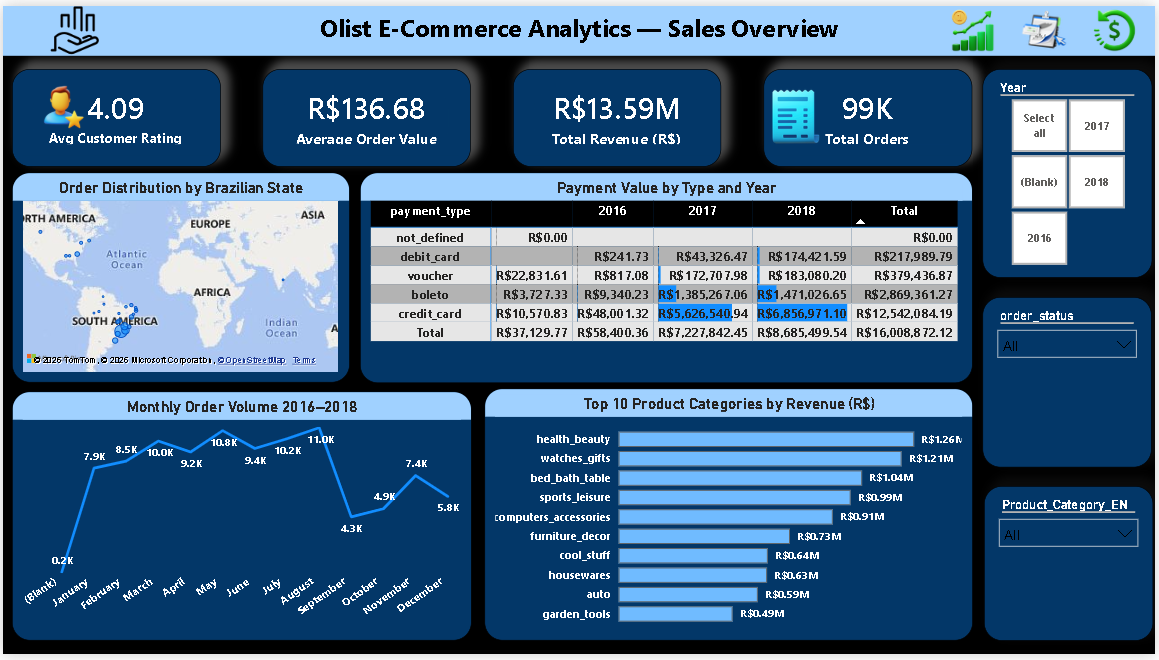

Layout of this report page (visuals, bound fields, positions):
{"tool":"powerbi","page":{"name":"Sales Overview ","canvas":[1280,720],"ordinal":0},"visuals":[{"type":"cardVisual","fields":{"Data":["Avg(FactReviews.review_score)"]},"box":[10,70,231.7,108.3],"z":0},{"type":"cardVisual","fields":{"Data":["Measures_table.Total Orders"]},"box":[845,70,231.7,108.3],"z":1000},{"type":"cardVisual","title":"Total Revenue (R$)","fields":{"Data":["Sum(FactOrderItems.price)"]},"box":[566.9,70,231,108.3],"z":2000},{"type":"cardVisual","fields":{"Data":["Measures_table.Average Order Value"]},"box":[288.8,70,231,108.3],"z":3000},{"type":"clusteredBarChart","title":"Top 10 Product Categories by Revenue (R$)","fields":{"Category":["DimProducts.Product_Category_EN"],"Y":["Sum(FactOrderItems.price)"]},"box":[534.4,424.7,542.4,279.9],"z":4000},{"type":"lineChart","title":"Monthly Order Volume 2016–2018","fields":{"Y":["CountNonNull(DimOrders.order_id)"],"Category":["DimOrders.order_approved_at.Variation.Date Hierarchy.Year","DimOrders.order_approved_at.Variation.Date Hierarchy.Quarter","DimOrders.order_approved_at.Variation.Date Hierarchy.Month","DimOrders.order_approved_at.Variation.Date Hierarchy.Day"]},"box":[9.5,427.9,510.6,276.8],"z":5000},{"type":"map","title":"Order Distribution by Brazilian State","fields":{"Category":["DimCustomers.customer_state"],"Size":["CountNonNull(DimOrders.order_id)"]},"box":[10,185,375,233.3],"z":6000},{"type":"pivotTable","title":"Payment Value by Type and Year","fields":{"Rows":["FactPayments.payment_type"],"Columns":["DimOrders.order_approved_at.Variation.Date Hierarchy.Year"],"Values":["Sum(FactPayments.payment_value)"]},"box":[396.1,184.5,680.8,233.8],"z":7000},{"type":"slicer","fields":{"Values":["DimOrders.order_approved_at.Variation.Date Hierarchy.Year"]},"box":[1088.3,70,188.3,231.7],"z":8000},{"type":"slicer","fields":{"Values":["DimProducts.Product_Category_EN"]},"box":[1089.6,532.9,187.7,171.8],"z":9000},{"type":"slicer","fields":{"Values":["DimOrders.order_status"]},"box":[1088,322.9,187.7,189.3],"z":10000},{"type":"textbox","box":[0,0,1280,55],"z":11000},{"type":"image","box":[1046.6,0,62,54.1],"z":12000},{"type":"image","box":[1121.4,0,70,54.1],"z":13000},{"type":"image","box":[1202.5,0,63.6,54.1],"z":14000},{"type":"image","box":[0,0,159.1,54.1],"z":15000},{"type":"image","box":[25,85,85,51.7],"z":16000},{"type":"image","box":[810,85,140,75],"z":17000}]}

Visuals, with their boxes in screenshot pixels (x1, y1, x2, y2), scaled from the page's 1280x720 canvas onto the 1159x660 screenshot:
cardVisual - Avg(FactReviews.review_score): l=9, t=64, r=219, b=163
cardVisual - Measures_table.Total Orders: l=765, t=64, r=975, b=163
"Total Revenue (R$)" cardVisual: l=513, t=64, r=722, b=163
cardVisual - Measures_table.Average Order Value: l=261, t=64, r=471, b=163
"Top 10 Product Categories by Revenue (R$)" clusteredBarChart: l=484, t=389, r=975, b=646
"Monthly Order Volume 2016–2018" lineChart: l=9, t=392, r=471, b=646
"Order Distribution by Brazilian State" map: l=9, t=170, r=349, b=383
"Payment Value by Type and Year" pivotTable: l=359, t=169, r=975, b=383
slicer - DimOrders.order_approved_at.Variation.Date Hierarchy.Year: l=985, t=64, r=1156, b=277
slicer - DimProducts.Product_Category_EN: l=987, t=488, r=1157, b=646
slicer - DimOrders.order_status: l=985, t=296, r=1155, b=470
textbox: l=0, t=0, r=1158, b=50
image: l=948, t=0, r=1004, b=50
image: l=1015, t=0, r=1079, b=50
image: l=1089, t=0, r=1146, b=50
image: l=0, t=0, r=144, b=50
image: l=23, t=78, r=100, b=125
image: l=733, t=78, r=860, b=147
